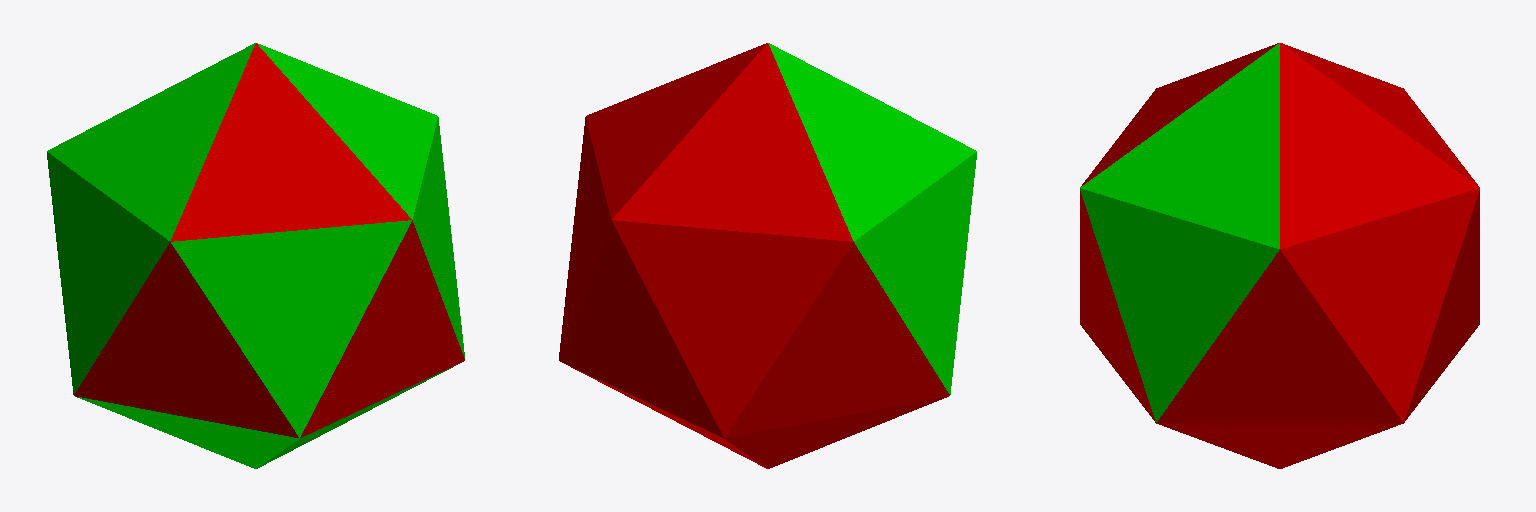
The model's file is icosahedron2.obj.
The picture shows the model from 3 angles: view 1: azimuth 30°, elevation 25°; view 2: azimuth 150°, elevation 25°; view 3: azimuth 270°, elevation 25°; orthographic projection.
Parts seen in each view (by area): view 1: Icosphere; view 2: Icosphere; view 3: Icosphere.
Boxes of the visible parts, box(x1,y1,x2,y2) form: Icosphere: box(47, 43, 464, 468); Icosphere: box(559, 43, 976, 468); Icosphere: box(1080, 43, 1479, 468).
Bounding box in the file's own units: 1.79 × 2 × 1.7.